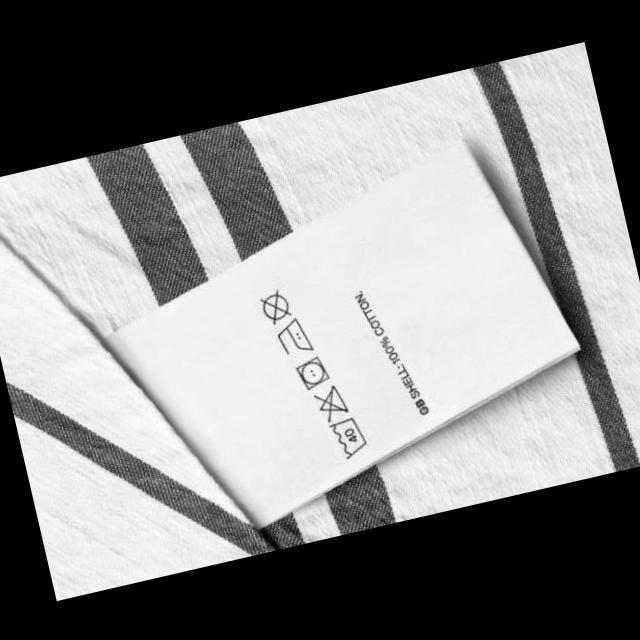40C: (327, 410, 371, 462)
DN_bleach: (309, 377, 352, 424)
DN_dry_clean: (254, 284, 294, 328)
iron_medium: (270, 311, 316, 358)
tumble_dry_medium: (291, 350, 334, 392)
